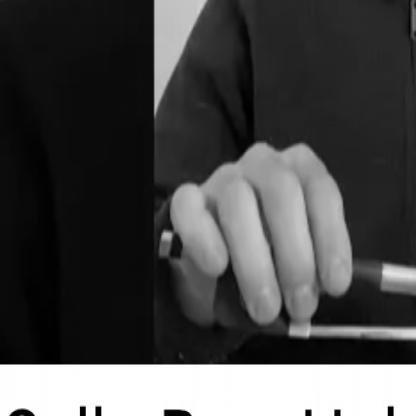good: (151, 130, 361, 326)
